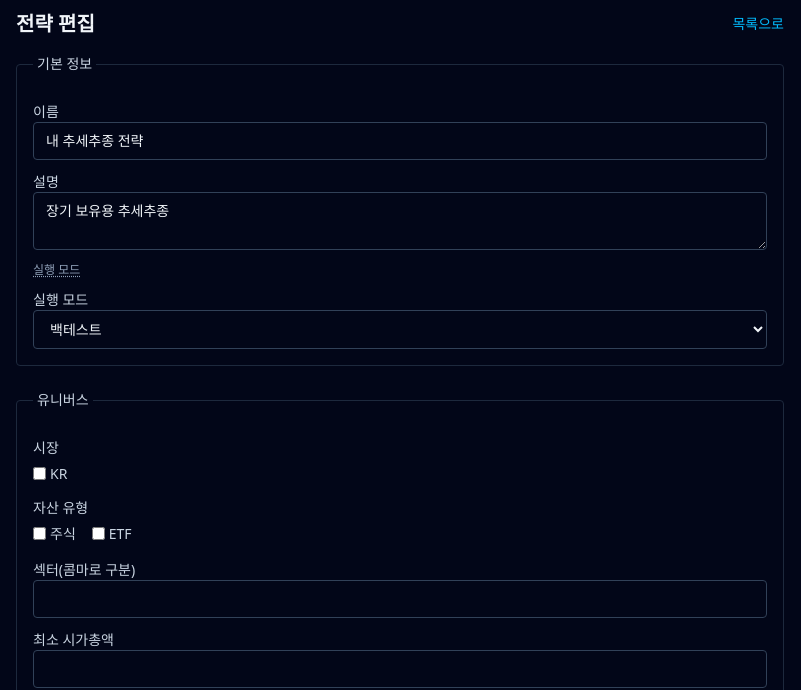
Test: StrategyEditPage › loads an existing strategy into the form and saves an edit
Replace the text in the field showing "내 추세추종 전략" with "수정된 전략 이름" at [400, 141], box [33, 122, 767, 160]
(page scrolled)
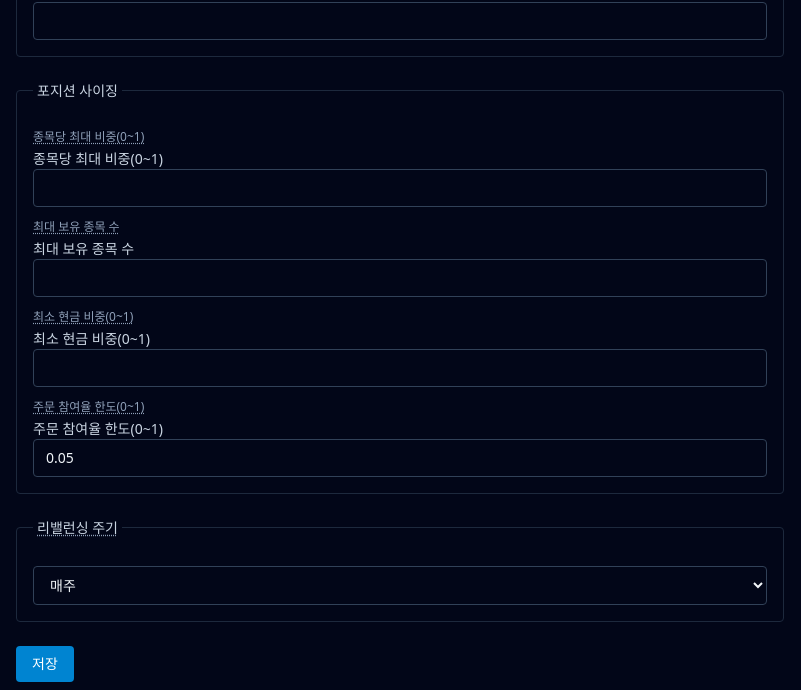
Click the button "저장" at [45, 664], box [16, 646, 74, 682]
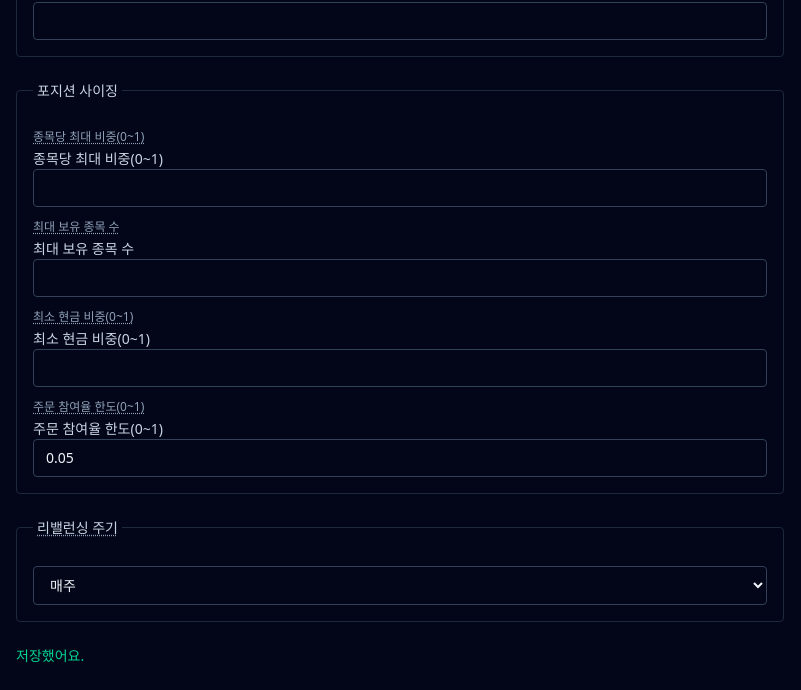
Check: the text "저장했어요." is shown, box [16, 646, 84, 664]
